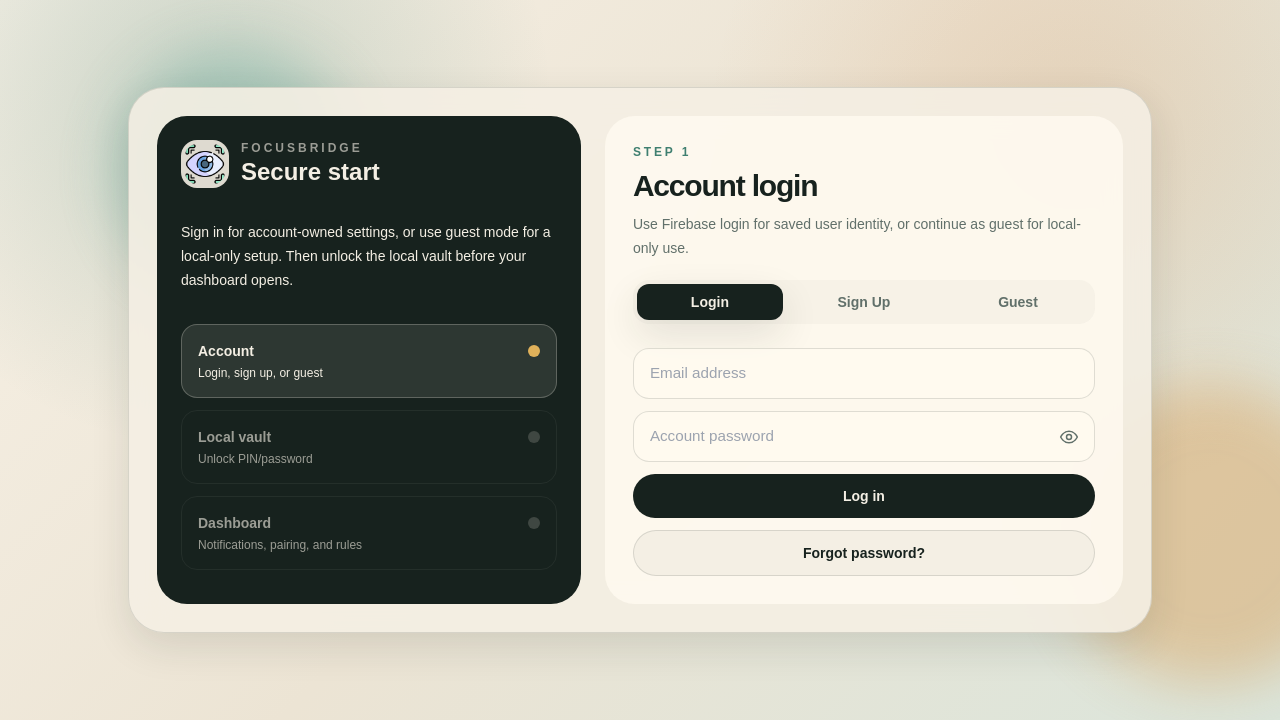
Test: PasswordInput in AuthGate › reveals the signup password without authenticating and preserves Enter
Expected: the heading "Account login" is shown, [633, 169, 817, 202]
Step 1. Click the button "Sign up" → point(864, 302), box [791, 284, 937, 320]
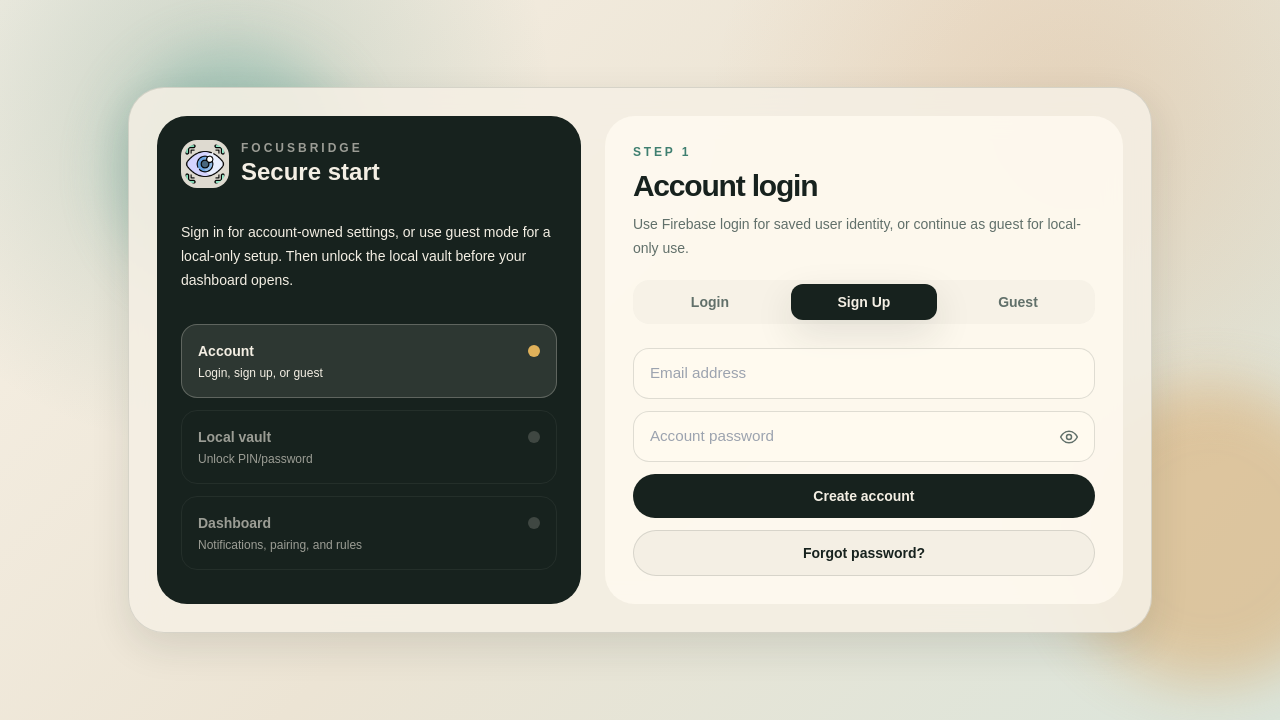
Step 2. Type "test@example.com" into the field with placeholder "Email address" → point(864, 374), box [633, 348, 1095, 399]
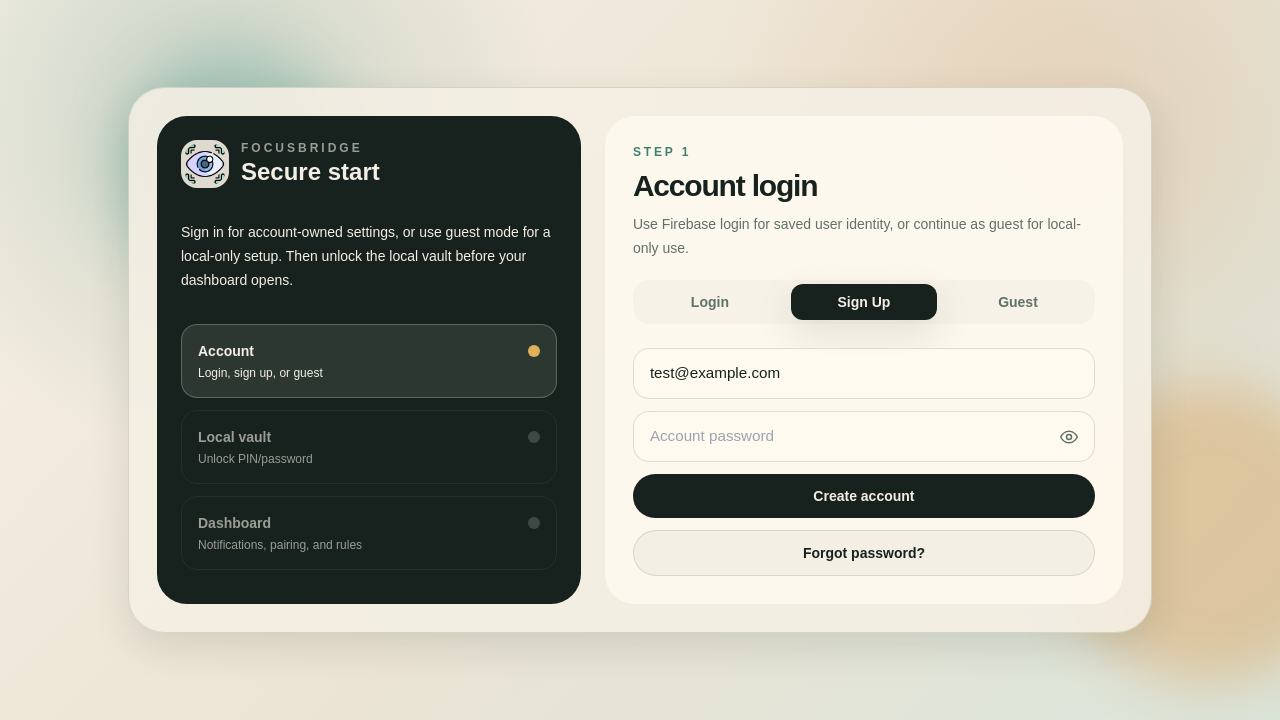
Step 3. Type "test-secret-123" into the password field with placeholder "Account password" → point(864, 436), box [633, 411, 1095, 462]
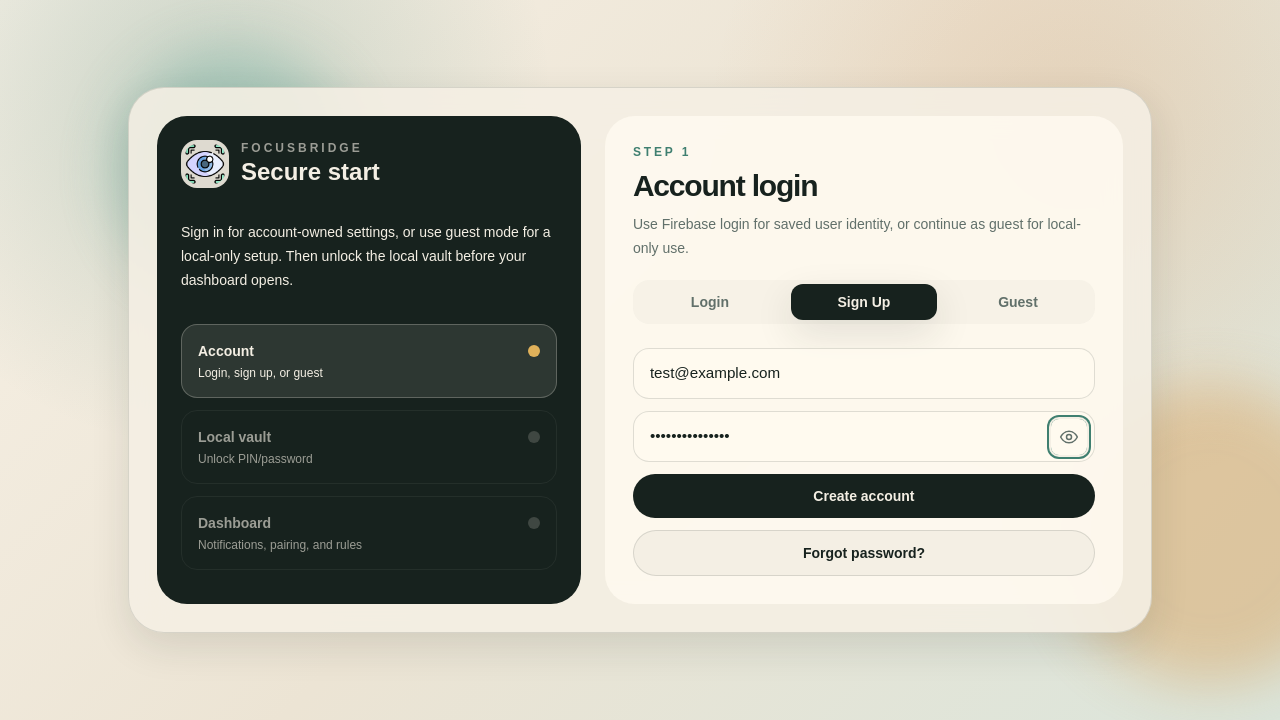
Step 4. Click the button named "Show Account password" → point(1069, 436), box [1051, 418, 1087, 454]
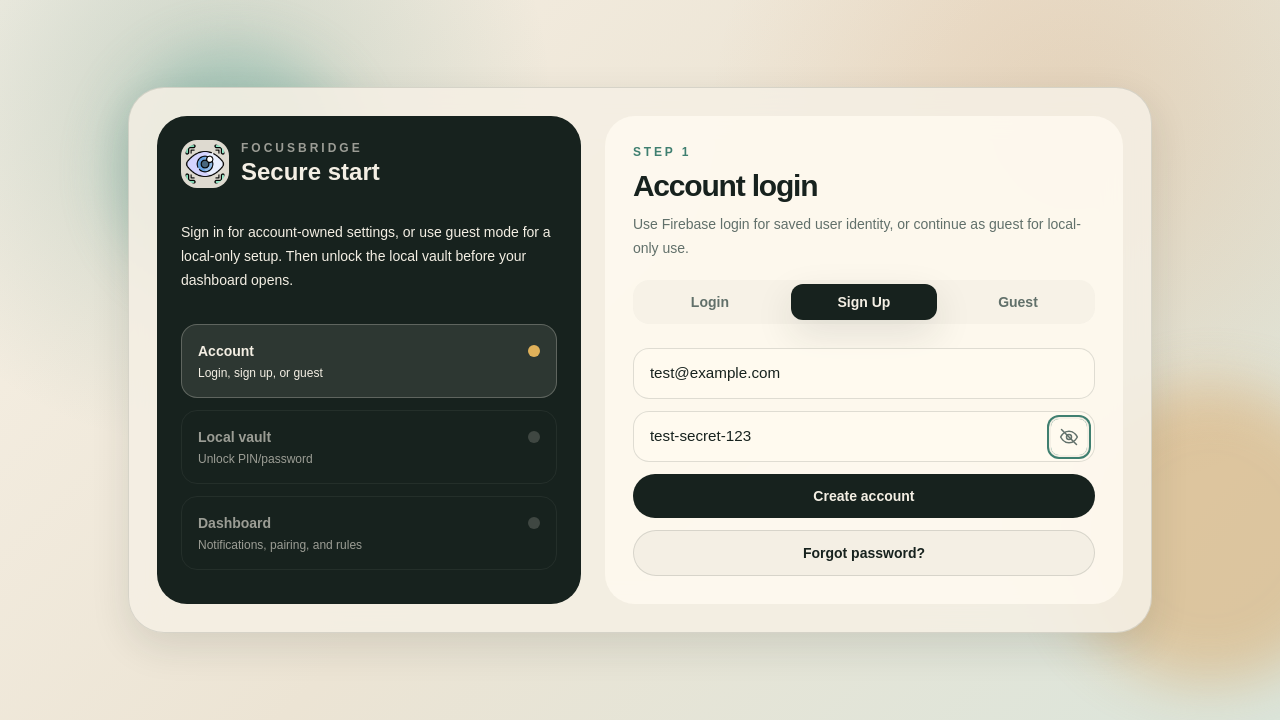
Expected: the field with placeholder "Account password" shows its text, [633, 411, 1095, 462]
Step 5. Click the button named "Hide Account password" → point(1069, 436), box [1051, 418, 1087, 454]
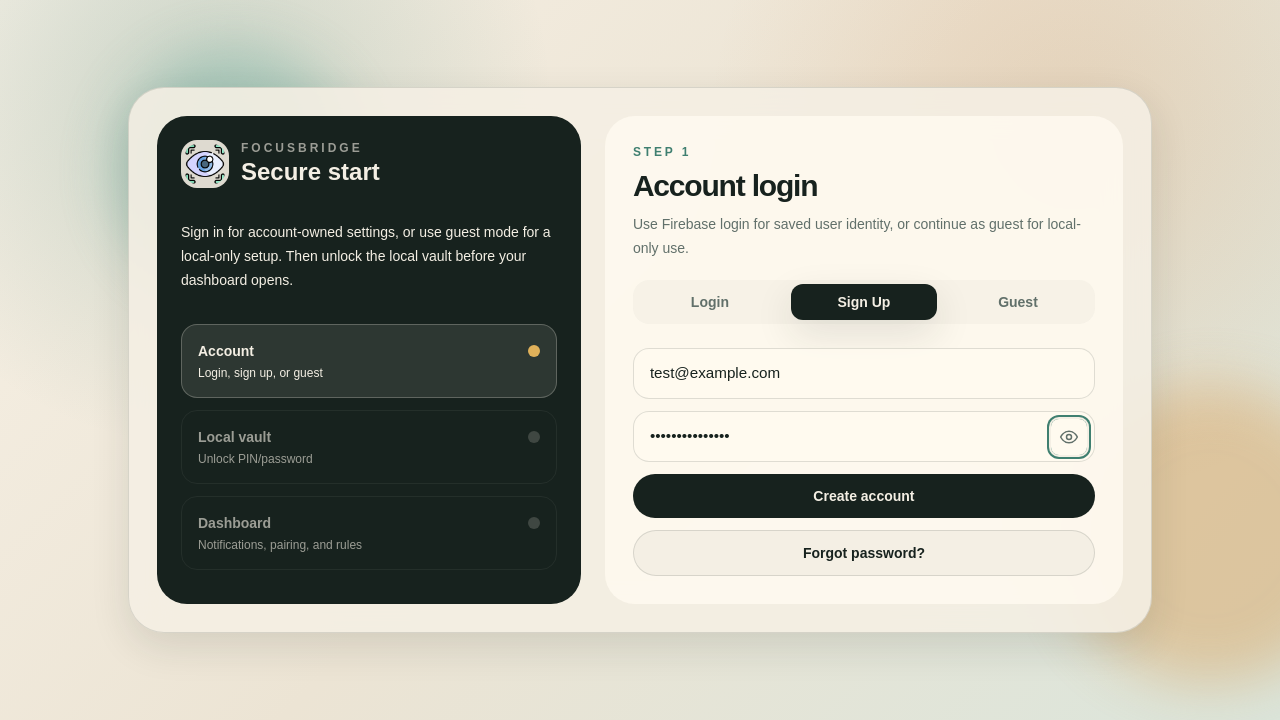
Expected: the password field with placeholder "Account password" hides its text
Step 6. Press Enter in the password field with placeholder "Account password", box [633, 411, 1095, 462]
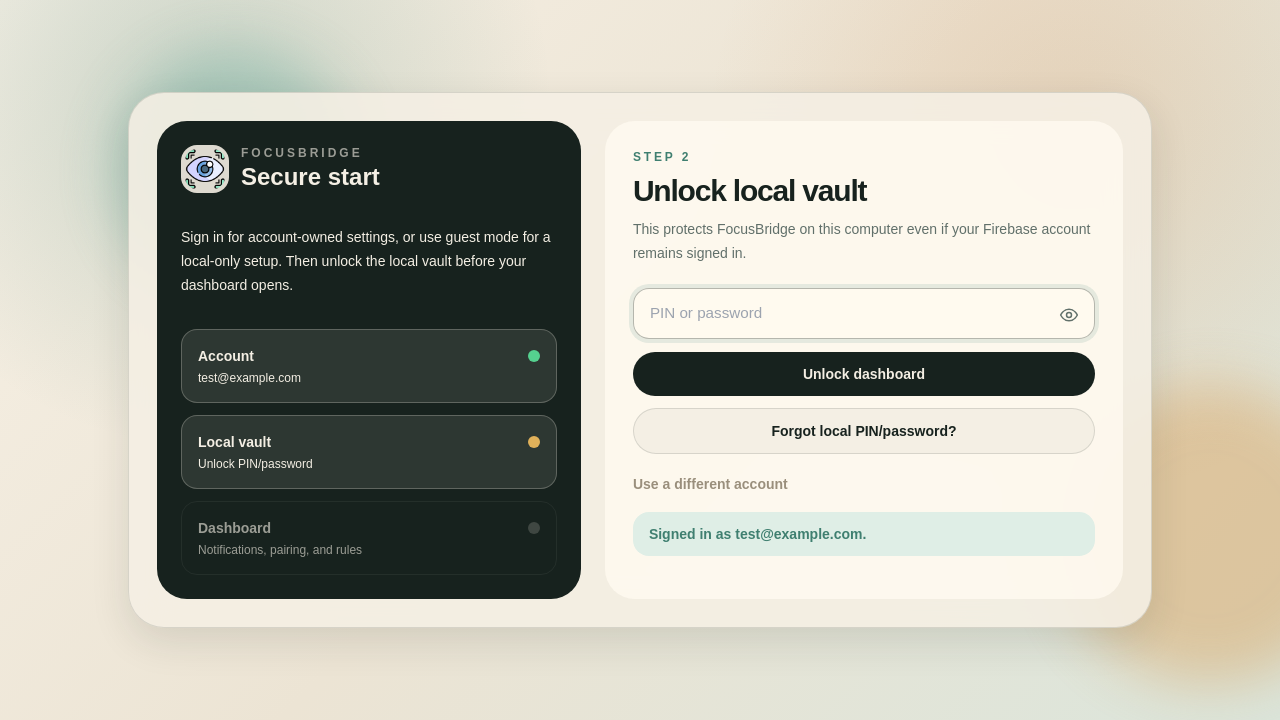
Expected: the heading "Unlock local vault" is shown, [633, 174, 866, 207]
